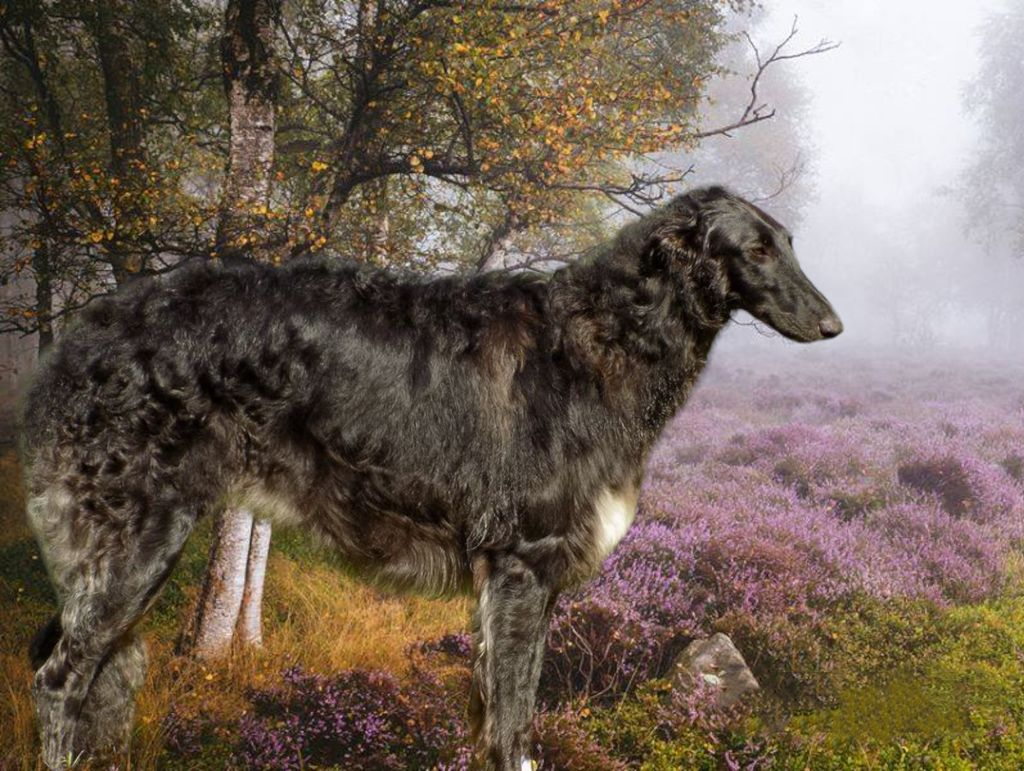borzoi: (4, 166, 855, 767)
